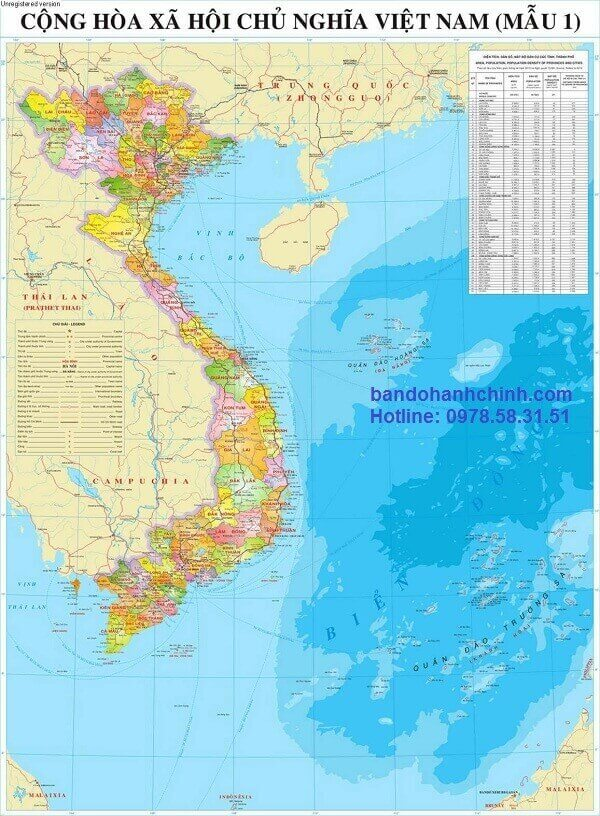Island: (388, 522, 593, 698), (341, 315, 435, 384)
